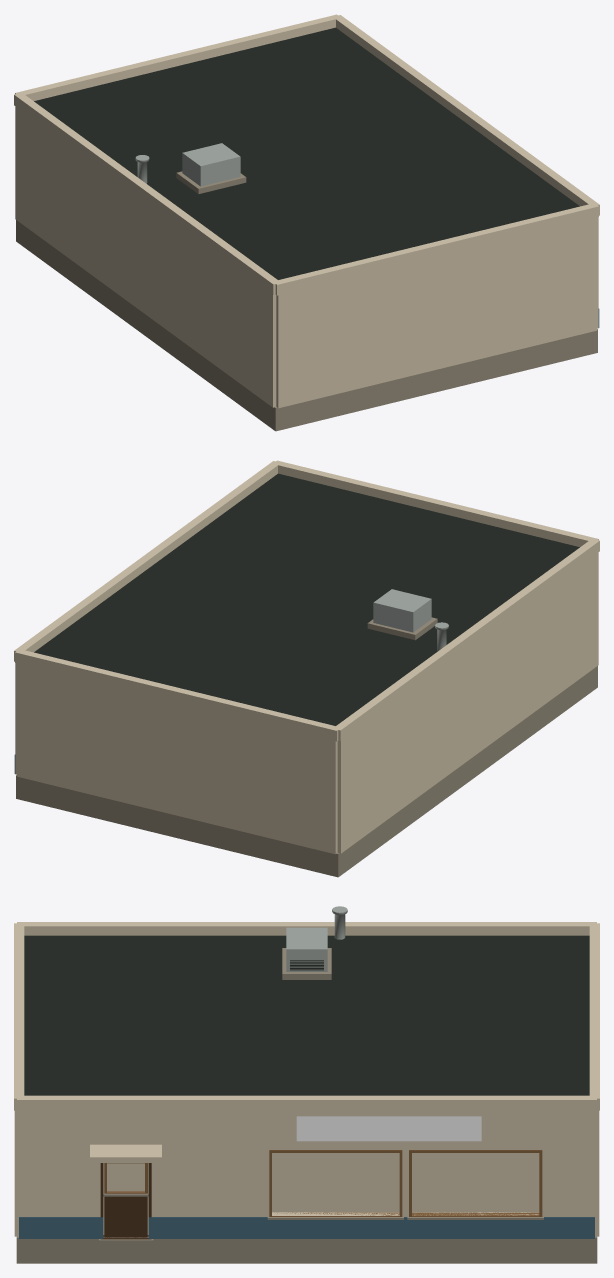
The model's file is SM_Town_Laundry_Shell_LOD1.fbx.
3 views of the same model, one above another, from view 1: azimuth 30°, elevation 25°; view 2: azimuth 150°, elevation 25°; view 3: azimuth 270°, elevation 25° (orthographic). The views are drawn at different scales.
Visible parts, largest first — view 1: SM_Town_Laundry_Shell_LOD1; view 2: SM_Town_Laundry_Shell_LOD1; view 3: SM_Town_Laundry_Shell_LOD1.
Boxes of the visible parts, box(x1,y1,x2,y2) form: SM_Town_Laundry_Shell_LOD1: box(14, 14, 599, 431); SM_Town_Laundry_Shell_LOD1: box(14, 460, 599, 877); SM_Town_Laundry_Shell_LOD1: box(14, 906, 599, 1263).
Size of the model in its own units: 10.96 by 14.25 by 4.97.
